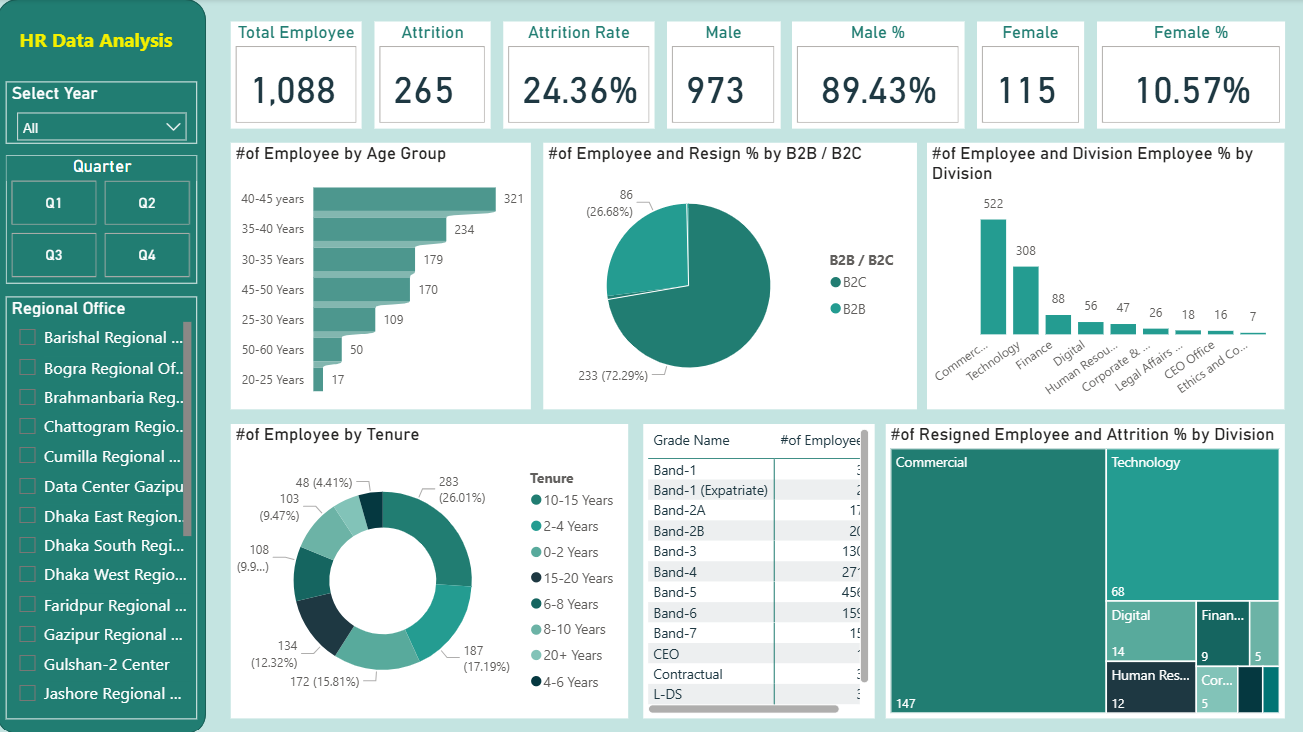

The page's visual inventory and layout, read from the dashboard file:
{"tool":"powerbi","page":{"name":"Page 1","canvas":[1280,720],"ordinal":0},"visuals":[{"type":"cardVisual","title":"Total Employee","fields":{"Data":["Active Employee.#of Employee"]},"box":[229,21.6,128.2,105.1],"z":0},{"type":"cardVisual","title":"Attrition","fields":{"Data":["Resign List.#of Resigned Employee"]},"box":[369.1,21.6,113.8,105.1],"z":1000},{"type":"cardVisual","title":"Attrition Rate","fields":{"Data":["Resign List.Attrition Rate"]},"box":[494.9,21.6,148.3,105.1],"z":2000},{"type":"barChart","fields":{"Category":["Active Employee.Age Group"],"Y":["Active Employee.#of Employee"]},"box":[229,141.1,293.8,260.6],"z":3000},{"type":"lineStackedColumnComboChart","fields":{"Category":["Active Employee.Division"],"Y":["Active Employee.#of Employee"]},"box":[910.1,141.1,349.9,260.6],"z":4000},{"type":"pivotTable","fields":{"Rows":["Active Employee.Grade Name"],"Values":["Active Employee.#of Employee"]},"box":[632.2,416.2,226.1,288],"z":5000},{"type":"donutChart","fields":{"Category":["Active Employee.Tenure"],"Y":["Active Employee.#of Employee"]},"box":[229,416.2,388.8,288],"z":6000},{"type":"pieChart","fields":{"Category":["B2B B2C.B2B / B2C"],"Y":["Active Employee.#of Employee","Resign List.Resign %"]},"box":[534.2,141.1,365.8,260.6],"z":7000},{"type":"shape","box":[0,0,204.5,720],"z":8000},{"type":"textbox","box":[17.3,21.6,168.5,41.8],"z":9000},{"type":"slicer","title":"Select Year","fields":{"Values":["DimDate.Year"]},"box":[8.6,80.6,187.2,60.5],"z":10000},{"type":"advancedSlicerVisual","fields":{"Values":["DimDate.Quarter"]},"box":[8.6,153,187.1,126],"z":11000},{"type":"slicer","title":"Regional Office","fields":{"Values":["Active Employee.Regional Office"]},"box":[8.6,290.9,187.2,413.3],"z":12000},{"type":"cardVisual","title":"Male","fields":{"Data":["Active Employee.Male"]},"box":[655.2,21.6,110.9,105.1],"z":13000},{"type":"cardVisual","title":"Female","fields":{"Data":["Active Employee.Female"]},"box":[958.6,21.6,105.1,105.1],"z":14000},{"type":"cardVisual","title":"Male %","fields":{"Data":["Active Employee.Male %"]},"box":[778.1,21.6,168.5,105.1],"z":15000},{"type":"cardVisual","title":"Female %","fields":{"Data":["Active Employee.Female %"]},"box":[1075.7,21.6,184.3,105.1],"z":16000},{"type":"treemap","fields":{"Group":["Resign List.Division"],"Values":["Resign List.#of Resigned Employee"]},"box":[869.8,416.2,390.2,288],"z":17000}]}

Visuals, with their boxes in screenshot pixels (x1, y1, x2, y2), scaled from the page's 1280x720 canvas onto the 1303x732 screenshot:
"Total Employee" cardVisual: detection(233, 22, 364, 129)
"Attrition" cardVisual: detection(376, 22, 492, 129)
"Attrition Rate" cardVisual: detection(504, 22, 655, 129)
barChart - Active Employee.Age Group x Active Employee.#of Employee: detection(233, 143, 532, 408)
lineStackedColumnComboChart - Active Employee.Division x Active Employee.#of Employee: detection(926, 143, 1283, 408)
pivotTable - Active Employee.Grade Name x Active Employee.#of Employee: detection(644, 423, 874, 716)
donutChart - Active Employee.Tenure x Active Employee.#of Employee: detection(233, 423, 629, 716)
pieChart - B2B B2C.B2B / B2C x Active Employee.#of Employee: detection(544, 143, 916, 408)
shape: detection(0, 0, 208, 731)
textbox: detection(18, 22, 189, 64)
"Select Year" slicer: detection(9, 82, 199, 143)
advancedSlicerVisual - DimDate.Quarter: detection(9, 156, 199, 284)
"Regional Office" slicer: detection(9, 296, 199, 716)
"Male" cardVisual: detection(667, 22, 780, 129)
"Female" cardVisual: detection(976, 22, 1083, 129)
"Male %" cardVisual: detection(792, 22, 964, 129)
"Female %" cardVisual: detection(1095, 22, 1283, 129)
treemap - Resign List.Division x Resign List.#of Resigned Employee: detection(885, 423, 1283, 716)
